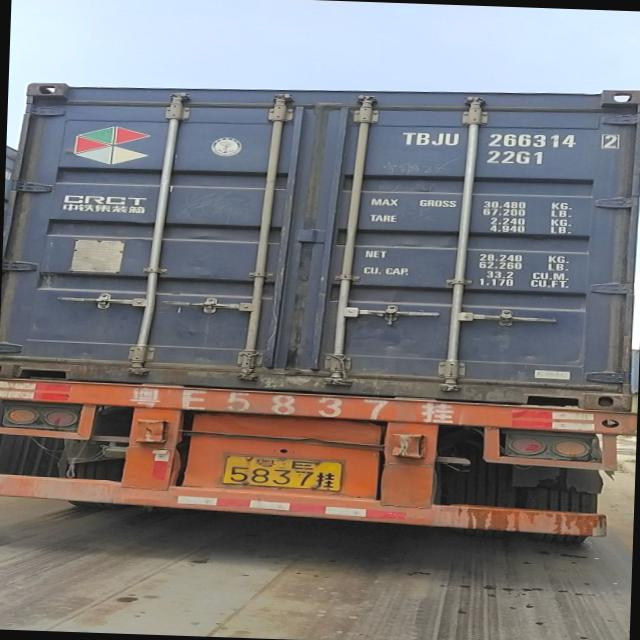seal: (379, 301, 402, 330)
